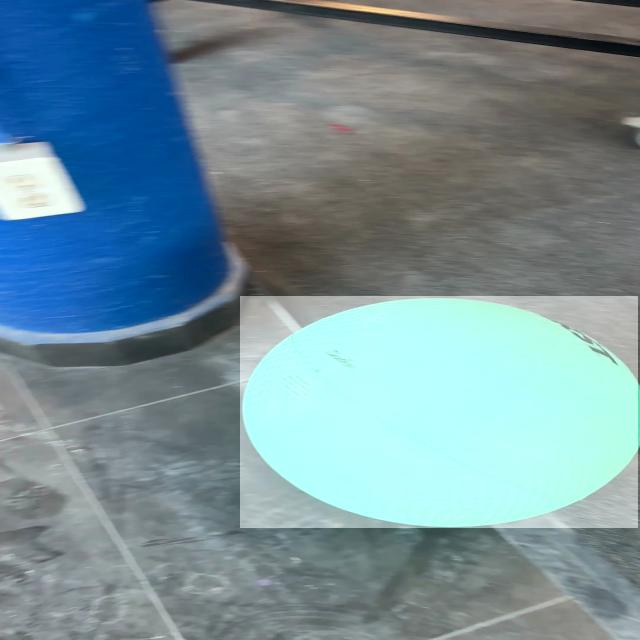Algae: (240, 296, 638, 528)
